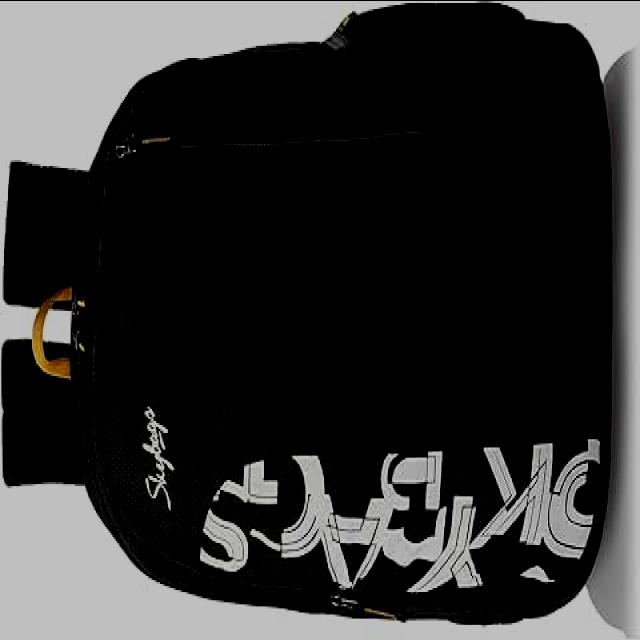backpack: (1, 3, 616, 640)
